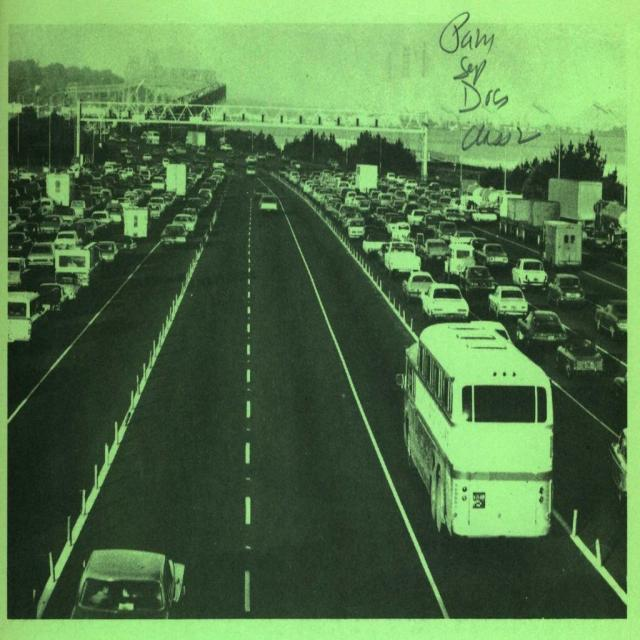car: (54, 547, 181, 626), (551, 333, 604, 380), (4, 293, 50, 342), (514, 309, 571, 346), (416, 283, 467, 324), (374, 236, 419, 276), (485, 283, 531, 317), (594, 297, 629, 340), (442, 239, 477, 280), (545, 272, 586, 305), (400, 266, 435, 302), (513, 259, 550, 293), (32, 279, 67, 310), (29, 236, 57, 272), (419, 236, 451, 266), (480, 239, 510, 270), (185, 191, 210, 225), (70, 213, 96, 245), (53, 227, 84, 251), (169, 209, 197, 234), (157, 221, 186, 245), (345, 213, 366, 244), (198, 181, 216, 210), (259, 191, 280, 214), (90, 208, 112, 226), (245, 162, 260, 175)
